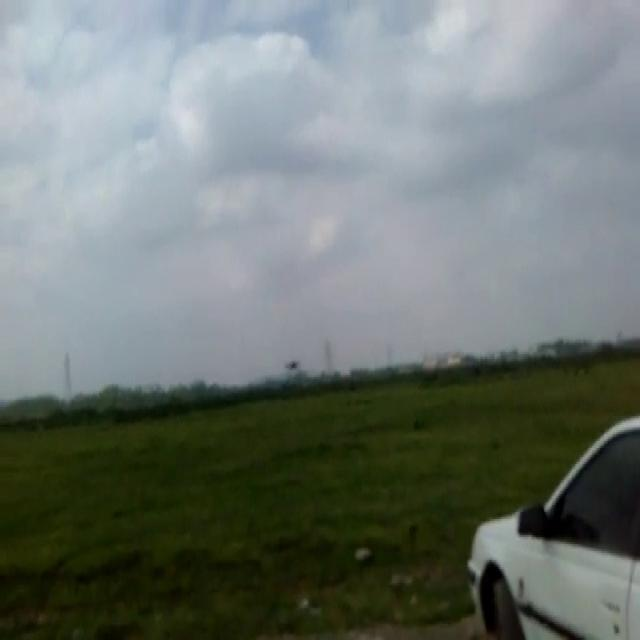drone: (285, 352, 301, 372)
